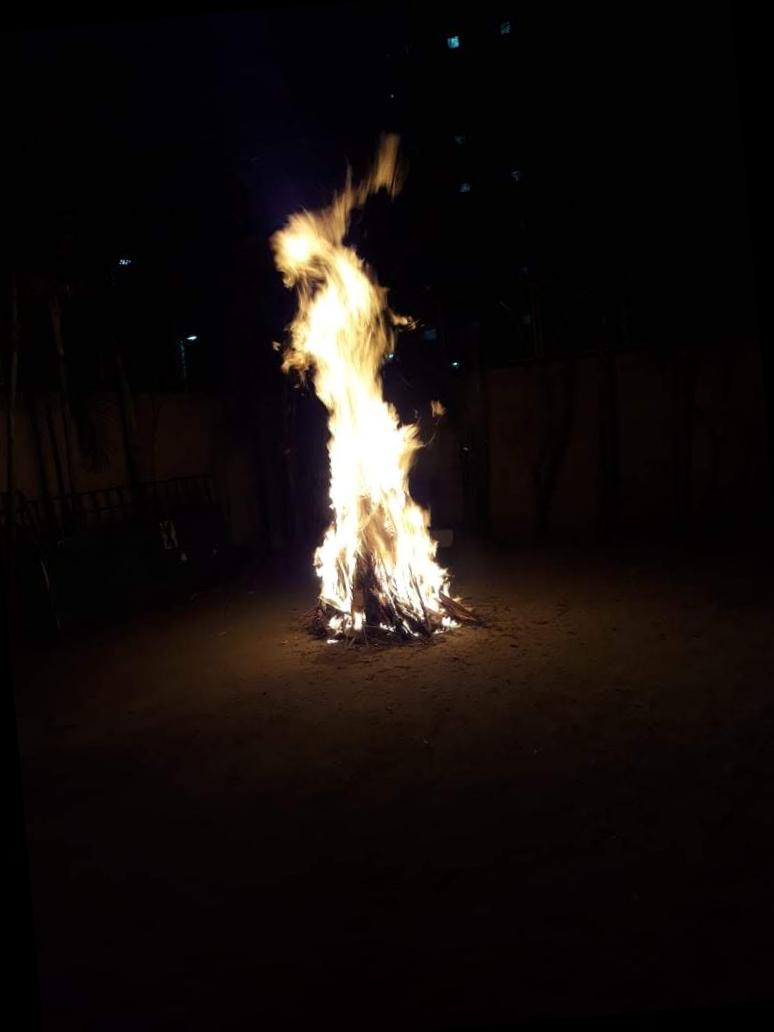Fire: (258, 126, 470, 649)
